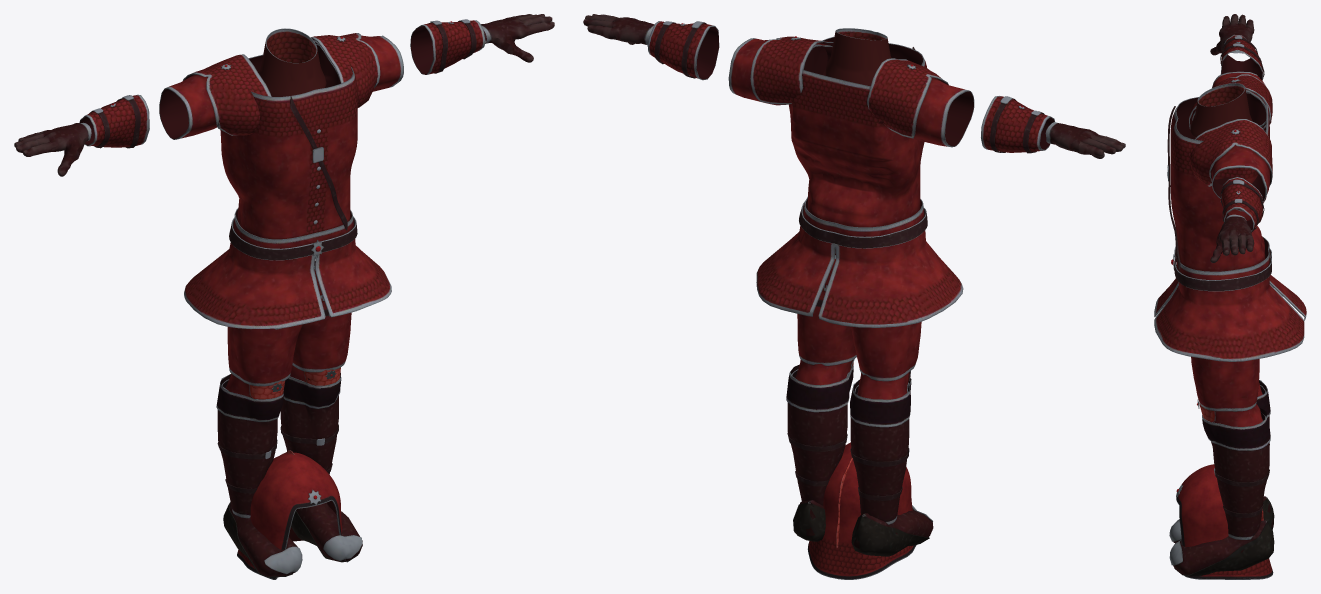
The model's file is light_dragon.glb.
The picture shows the model from 3 angles, left to right: view 1: azimuth 30°, elevation 25°; view 2: azimuth 150°, elevation 25°; view 3: azimuth 270°, elevation 25°; orthographic projection. The views are drawn at different scales.
Visible parts, largest first — view 1: chest, feet, gloves, legs, hood; view 2: chest, feet, gloves, legs, hood; view 3: chest, feet, gloves, legs, hood.
Part boxes in pixels (<box>): chest: <box>159,28,403,328</box>; feet: <box>216,373,362,577</box>; gloves: <box>14,14,554,176</box>; legs: <box>225,261,351,399</box>; hood: <box>237,450,347,579</box>; chest: <box>728,28,974,327</box>; feet: <box>786,364,933,556</box>; gloves: <box>583,14,1125,158</box>; legs: <box>795,249,921,399</box>; hood: <box>807,442,916,579</box>; chest: <box>1154,71,1306,361</box>; feet: <box>1169,380,1274,576</box>; gloves: <box>1210,14,1264,262</box>; legs: <box>1191,357,1262,426</box>; hood: <box>1176,464,1273,579</box>.
Size of the model in its own units: 1.8 by 1.7 by 0.4879.
Materials: 5 (5 with a texture image).
